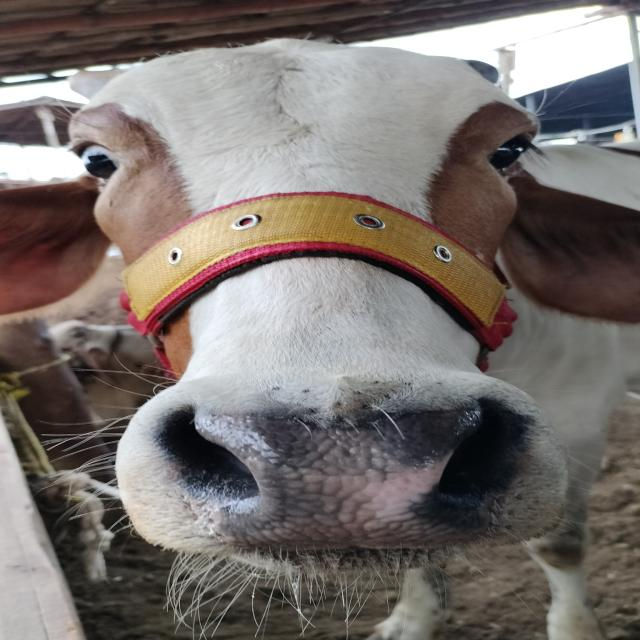muzzles: (138, 386, 512, 564)
